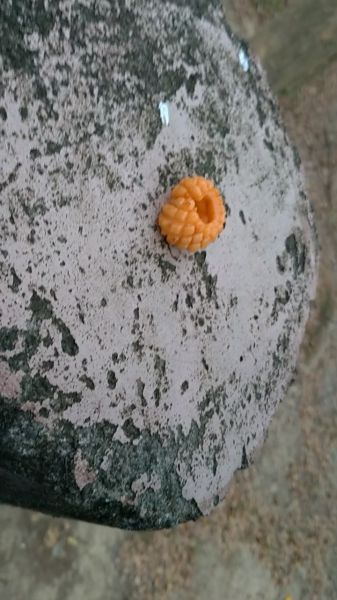eggs: (153, 166, 234, 260)
